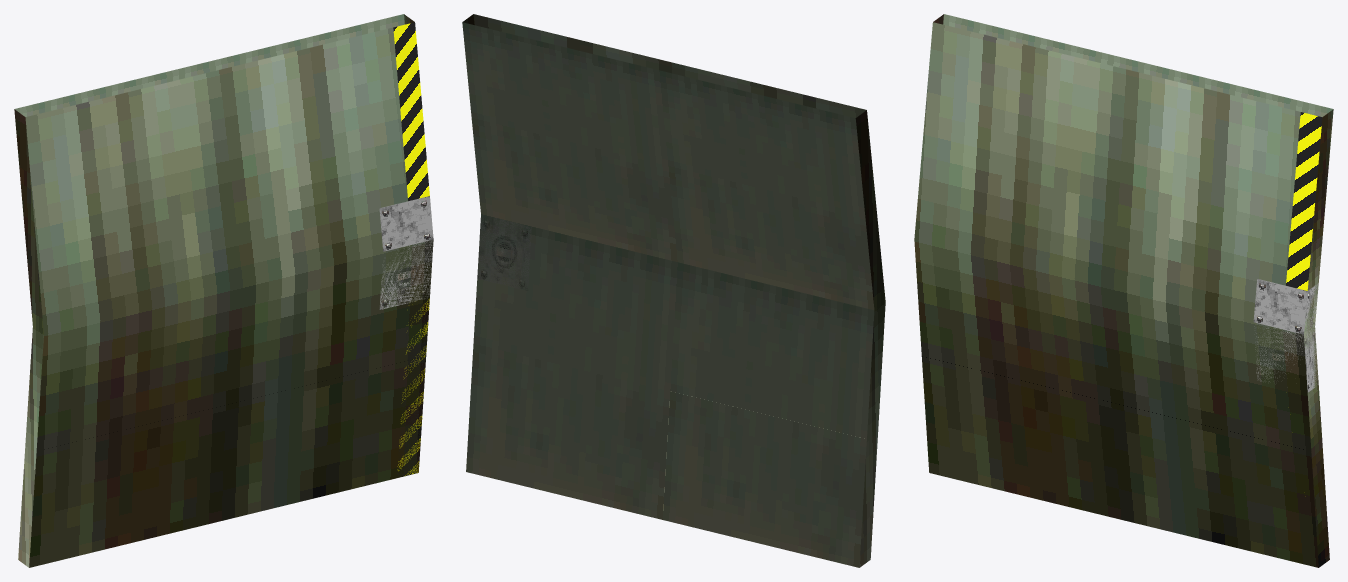
Rendered from PtrainextdoorZ.obj.
3 renders of one model, left to right at view 1: azimuth 30°, elevation 25°; view 2: azimuth 150°, elevation 25°; view 3: azimuth 330°, elevation 25°, orthographic.
Bounding box in the file's own units: 788 × 866 × 104.
Materials: 5 (5 with a texture image).
